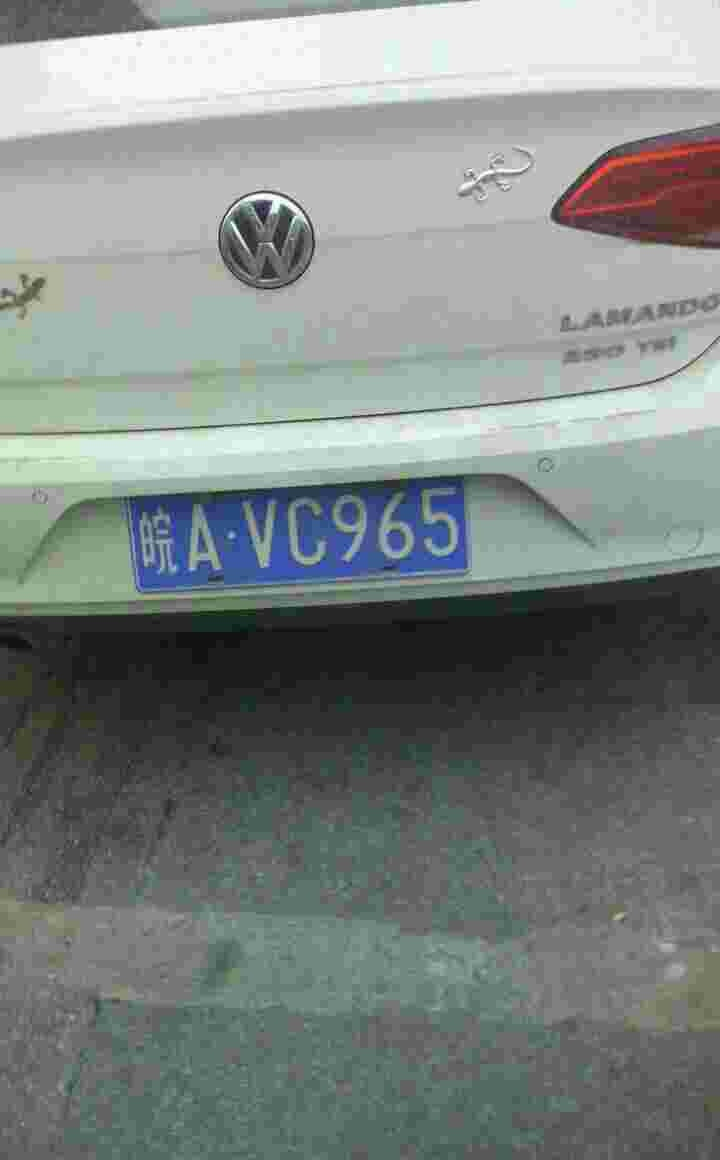license_plate: (112, 479, 471, 594)
